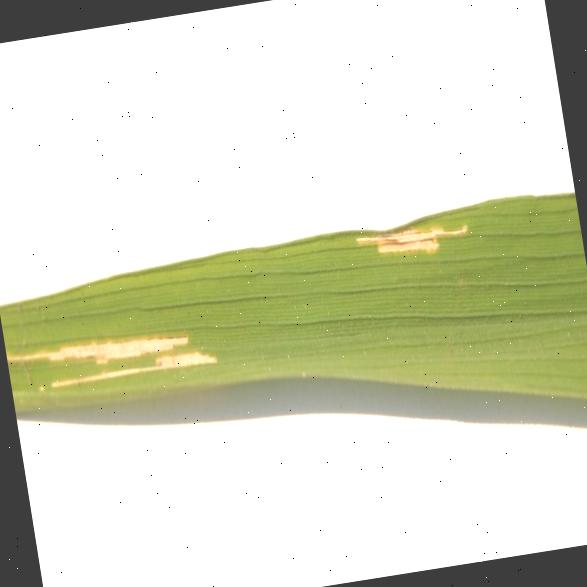Bacteria_Leaf_Blight: (0, 243, 244, 466), (334, 166, 488, 290)
